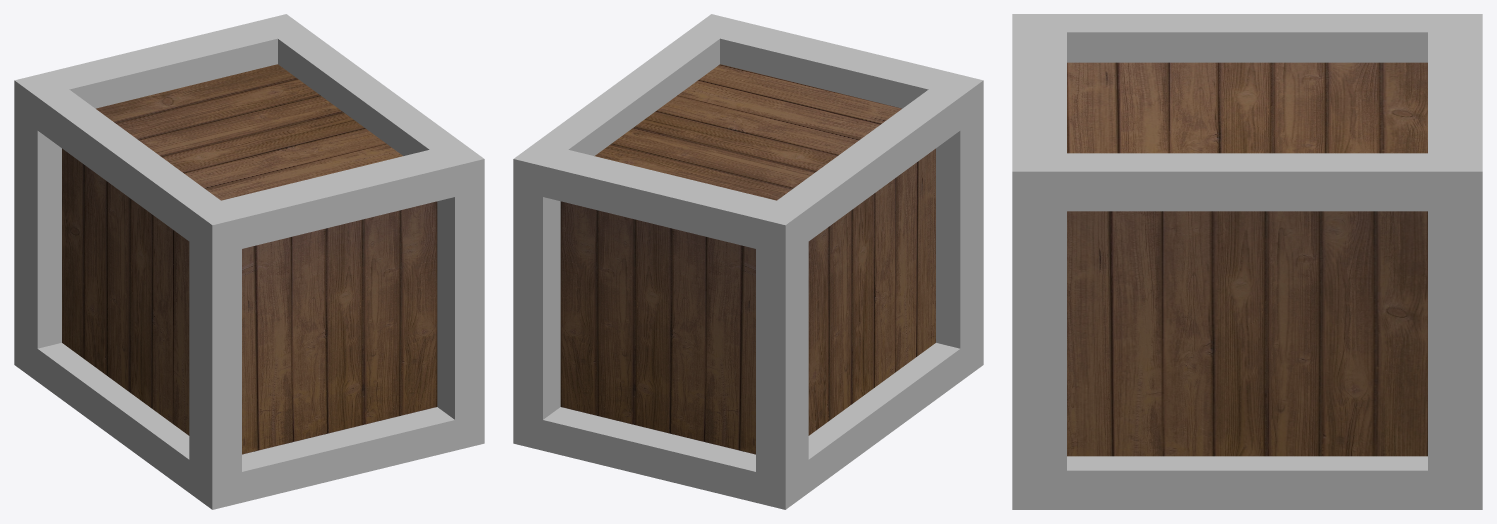
3 renders of one model, left to right at view 1: azimuth 30°, elevation 25°; view 2: azimuth 150°, elevation 25°; view 3: azimuth 270°, elevation 25°, orthographic. The views are drawn at different scales.
Parts seen in each view (by area): view 1: pCube1; view 2: pCube1; view 3: pCube1.
Part boxes in pixels (left/top/right/bottom): pCube1: left=14, top=14, right=484, bottom=509; pCube1: left=513, top=14, right=983, bottom=509; pCube1: left=1012, top=14, right=1482, bottom=509.
Size of the model in its own units: 11.48 by 11.48 by 14.47.
